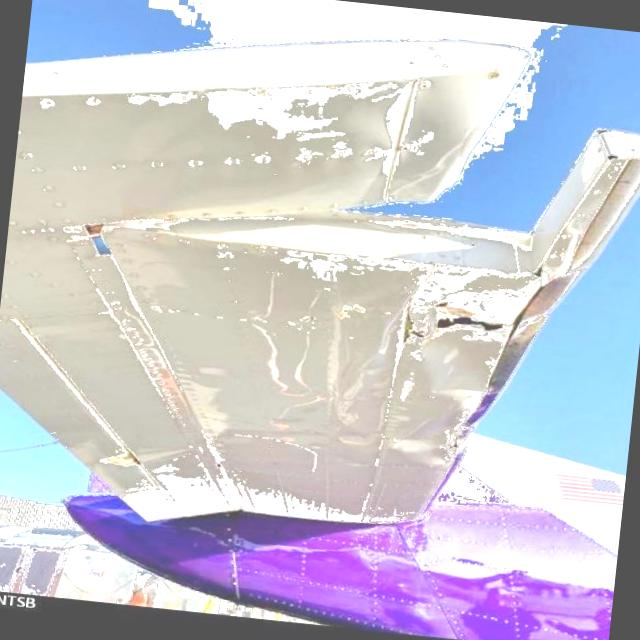dent: (366, 406, 451, 480)
